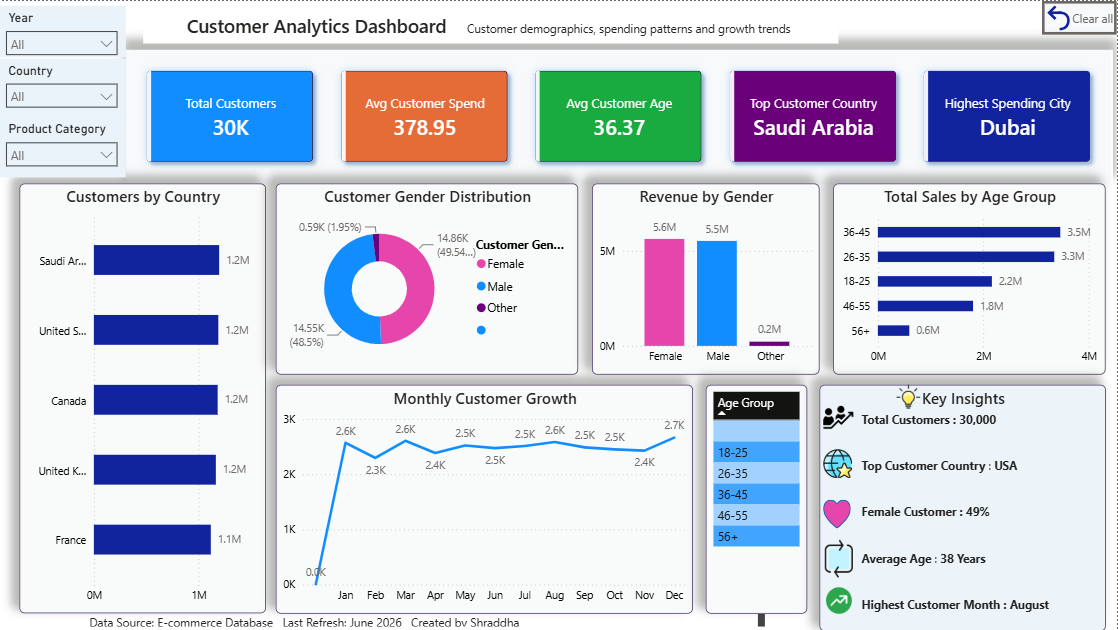

What the dashboard file says about the page in this screenshot:
{"tool":"powerbi","page":{"name":"Customer Analytics","canvas":[1280,720],"ordinal":2},"visuals":[{"type":"textbox","box":[100,695.7,782.9,24.3],"z":0},{"type":"lineChart","title":"Monthly Customer Growth","fields":{"Category":["ecommerce_orders_dataset.Month Name"],"Y":["CountNonNull(ecommerce_orders_dataset.Customer_ID)"]},"box":[318.6,438.6,477.1,261.4],"z":1000},{"type":"actionButton","box":[1194.7,0,85.3,38.4],"z":2000},{"type":"cardVisual","fields":{"Data":["ecommerce_orders_dataset.Total Customers","ecommerce_orders_dataset.Avg Customer Spend","ecommerce_orders_dataset.Avg Customer Age","ecommerce_orders_dataset.Top Customer Country","ecommerce_orders_dataset.Highest Spending City"]},"box":[147.1,55.7,1128.6,152.9],"z":3000},{"type":"textbox","box":[167.1,8.6,794.3,40],"z":4000},{"type":"barChart","fields":{"Category":["ecommerce_orders_dataset.Age Group"],"Y":["ecommerce_orders_dataset.Total Sales"]},"box":[955.7,208.6,311.4,218.6],"z":5000},{"type":"clusteredBarChart","title":"Customers by Country","fields":{"Category":["ecommerce_orders_dataset.Country"],"Y":["ecommerce_orders_dataset.Total Revenue"]},"box":[25.7,208.6,281.4,491.4],"z":6000},{"type":"donutChart","title":"Customer Gender Distribution","fields":{"Category":["ecommerce_orders_dataset.Customer_Gender"],"Y":["CountNonNull(ecommerce_orders_dataset.Customer_ID)"]},"box":[318.6,208.6,345.7,218.6],"z":7000},{"type":"columnChart","title":"Revenue by Gender","fields":{"Category":["ecommerce_orders_dataset.Customer_Gender"],"Y":["ecommerce_orders_dataset.Total Sales"]},"box":[680,208.6,260,218.6],"z":8000},{"type":"tableEx","fields":{"Values":["ecommerce_orders_dataset.Age Group"]},"box":[810,438.6,115.7,261.4],"z":9000},{"type":"slicer","fields":{"Values":["ecommerce_orders_dataset.Year N"]},"box":[0,6.2,147.5,58.8],"z":10000},{"type":"slicer","fields":{"Values":["ecommerce_orders_dataset.Country"]},"box":[0,65,147.5,67.5],"z":11000},{"type":"slicer","fields":{"Values":["ecommerce_orders_dataset.Product_Category"]},"box":[0,132.5,147.5,68.8],"z":12000},{"type":"textbox","title":"Key Insights","box":[940,438.6,327.1,281.4],"z":13000},{"type":"image","box":[1027.1,438.6,28.6,27.1],"z":14000},{"type":"image","box":[944.3,502.9,34.3,51.4],"z":15000},{"type":"image","box":[931.4,670,61.4,30],"z":16000},{"type":"image","box":[944.3,438.6,34.3,74.3],"z":17000},{"type":"image","box":[935.7,615.7,52.9,42.9],"z":18000},{"type":"shape","box":[944.3,570,31.4,32.9],"z":19000}]}

Visuals, with their boxes on the page's 1280x720 design canvas (x1, y1, x2, y2). These are canvas units, not pixel positions in the 1118x630 screenshot, which may show the page scaled, cropped or inside an application window:
textbox: 100/696/883/720
"Monthly Customer Growth" lineChart: 319/439/796/700
actionButton: 1195/0/1280/38
cardVisual - ecommerce_orders_dataset.Total Customers x ecommerce_orders_dataset.Avg Customer Spend: 147/56/1276/209
textbox: 167/9/961/49
barChart - ecommerce_orders_dataset.Age Group x ecommerce_orders_dataset.Total Sales: 956/209/1267/427
"Customers by Country" clusteredBarChart: 26/209/307/700
"Customer Gender Distribution" donutChart: 319/209/664/427
"Revenue by Gender" columnChart: 680/209/940/427
tableEx - ecommerce_orders_dataset.Age Group: 810/439/926/700
slicer - ecommerce_orders_dataset.Year N: 0/6/148/65
slicer - ecommerce_orders_dataset.Country: 0/65/148/132
slicer - ecommerce_orders_dataset.Product_Category: 0/132/148/201
"Key Insights" textbox: 940/439/1267/720
image: 1027/439/1056/466
image: 944/503/979/554
image: 931/670/993/700
image: 944/439/979/513
image: 936/616/989/659
shape: 944/570/976/603
